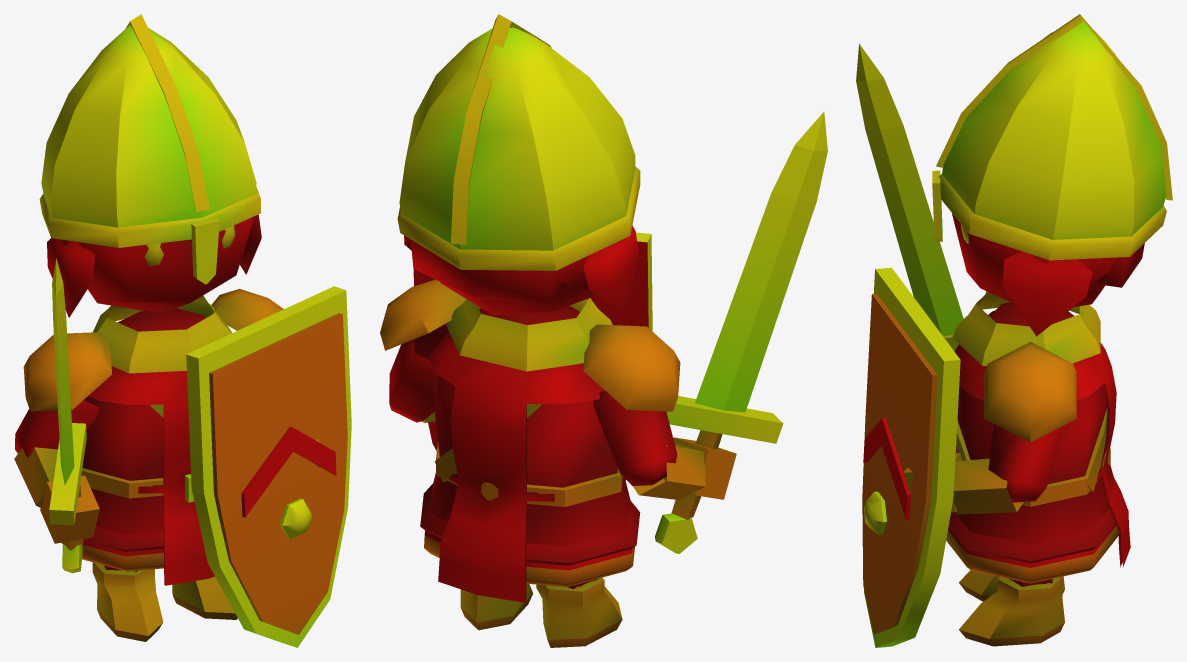
Rendered from Shieldman_LOD1.glb.
3 renders of one model, left to right at view 1: azimuth 30°, elevation 25°; view 2: azimuth 150°, elevation 25°; view 3: azimuth 270°, elevation 25°, orthographic. The views are drawn at different scales.
Parts seen in each view (by area): view 1: Shieldman_LOD1; view 2: Shieldman_LOD1; view 3: Shieldman_LOD1.
Boxes of the visible parts, <box> form: Shieldman_LOD1: <box>14,14,351,647</box>; Shieldman_LOD1: <box>380,14,827,647</box>; Shieldman_LOD1: <box>856,14,1172,647</box>.
Size of the model in its own units: 0.5997 by 0.9892 by 0.4707.
